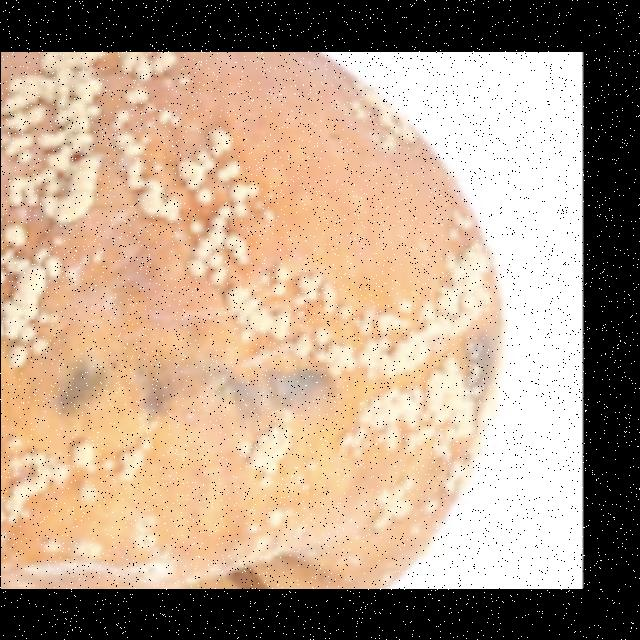Apel Tidak Segar: (0, 51, 502, 588)
